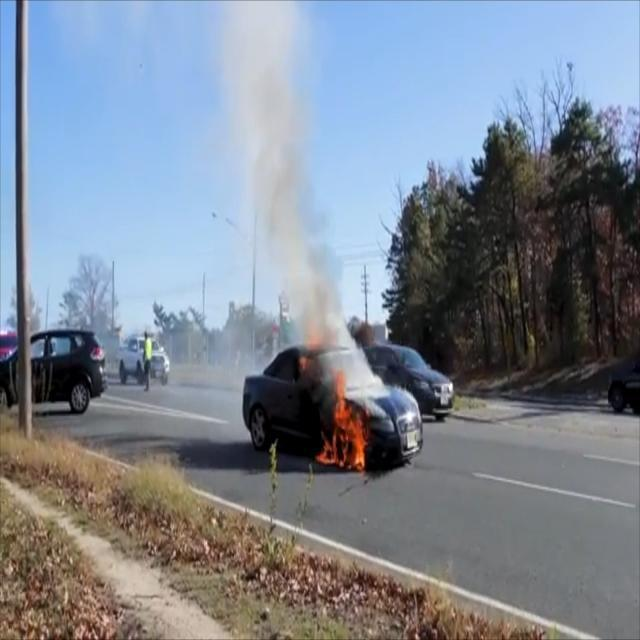fire: (298, 324, 366, 476)
